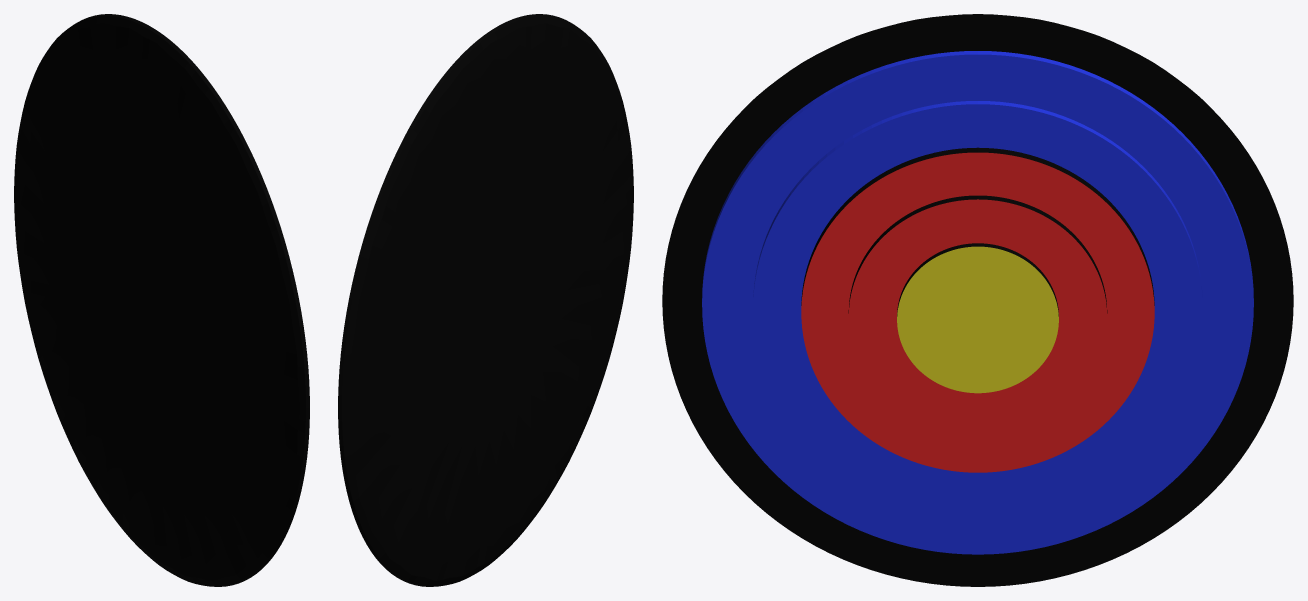
The model's file is alvo.fbx.
3 views of the same model, side by side, from view 1: azimuth 30°, elevation 25°; view 2: azimuth 150°, elevation 25°; view 3: azimuth 270°, elevation 25° (orthographic). The views are drawn at different scales.
Parts seen in each view (by area): view 1: Cilindro; view 2: Cilindro; view 3: Cilindro.
Part boxes in pixels (x1,y1,x2,y2): Cilindro: (14, 14, 309, 586); Cilindro: (338, 14, 633, 586); Cilindro: (662, 14, 1293, 586).
Bounding box in the file's own units: 6.31 × 64.76 × 64.76.
